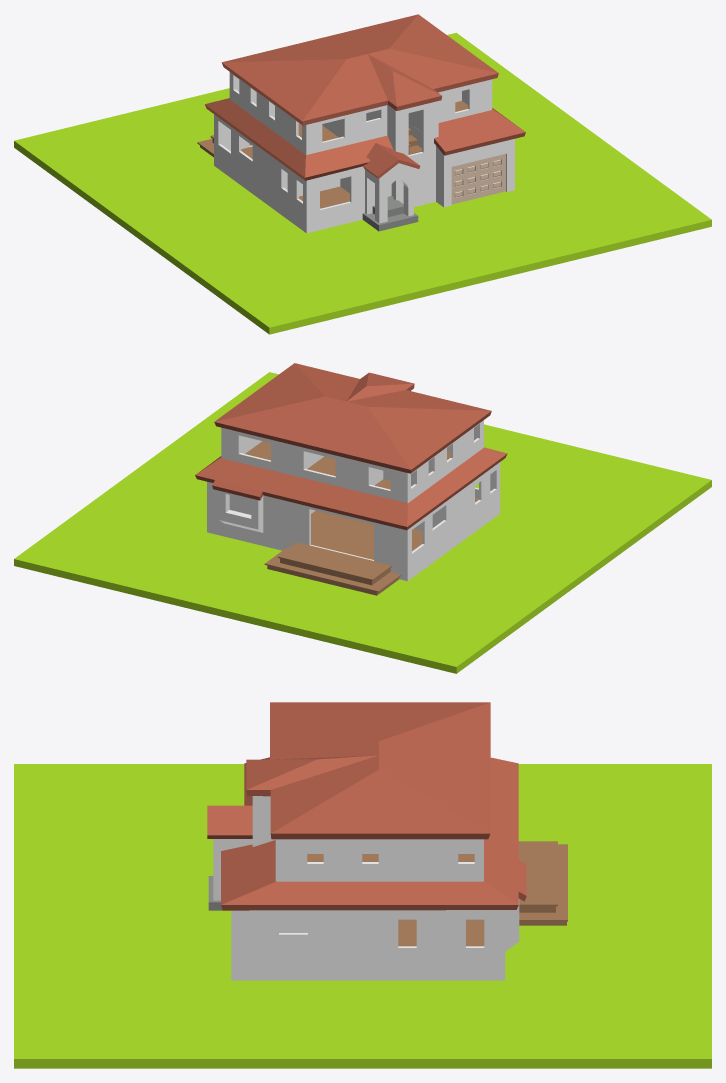
Rendered from HouseTestFile.glb.
3 renders of one model, top to bottom at view 1: azimuth 30°, elevation 25°; view 2: azimuth 150°, elevation 25°; view 3: azimuth 270°, elevation 25°, orthographic. The views are drawn at different scales.
Parts seen in each view (by area): view 1: Ground, Walls, Upper Roof Base, Lower Roof Base, Garage Door, Porch Structure, Porch Roof, Front Steps, Floor; view 2: Ground, Walls, Upper Roof Base, Lower Roof Base, Floor, Backyard Deck.002, Window Extension, Backyard Deck, Backyard Deck.001, Floor 2; view 3: Ground, Upper Roof Base, Walls, Lower Roof Base, Backyard Deck.002, Porch Roof, Backyard Deck.001, Floor, Porch Structure, Window Extension.
Boxes of the visible parts, bbox=[...] form: Ground: bbox=[14, 32, 711, 334]; Walls: bbox=[214, 72, 514, 233]; Upper Roof Base: bbox=[221, 14, 498, 125]; Lower Roof Base: bbox=[205, 98, 525, 180]; Garage Door: bbox=[451, 154, 505, 204]; Porch Structure: bbox=[365, 163, 413, 223]; Porch Roof: bbox=[363, 143, 420, 178]; Front Steps: bbox=[362, 196, 418, 231]; Floor: bbox=[241, 146, 349, 208]; Ground: bbox=[14, 372, 711, 673]; Walls: bbox=[207, 420, 500, 581]; Upper Roof Base: bbox=[214, 363, 491, 473]; Lower Roof Base: bbox=[195, 447, 507, 530]; Floor: bbox=[311, 497, 478, 559]; Backyard Deck.002: bbox=[278, 542, 391, 580]; Window Extension: bbox=[219, 490, 263, 532]; Backyard Deck: bbox=[267, 558, 399, 595]; Backyard Deck.001: bbox=[264, 547, 401, 592]; Floor 2: bbox=[245, 441, 450, 489]; Ground: bbox=[14, 764, 711, 1068]; Upper Roof Base: bbox=[246, 702, 490, 839]; Walls: bbox=[231, 796, 505, 980]; Lower Roof Base: bbox=[221, 757, 526, 910]; Backyard Deck.002: bbox=[518, 841, 557, 906]; Porch Roof: bbox=[207, 805, 252, 838]; Backyard Deck.001: bbox=[519, 844, 567, 921]; Floor: bbox=[398, 919, 484, 946]; Porch Structure: bbox=[213, 839, 252, 900]; Window Extension: bbox=[505, 899, 519, 951].
Bounding box in the file's own units: 22.48 × 6.14 × 22.48.
